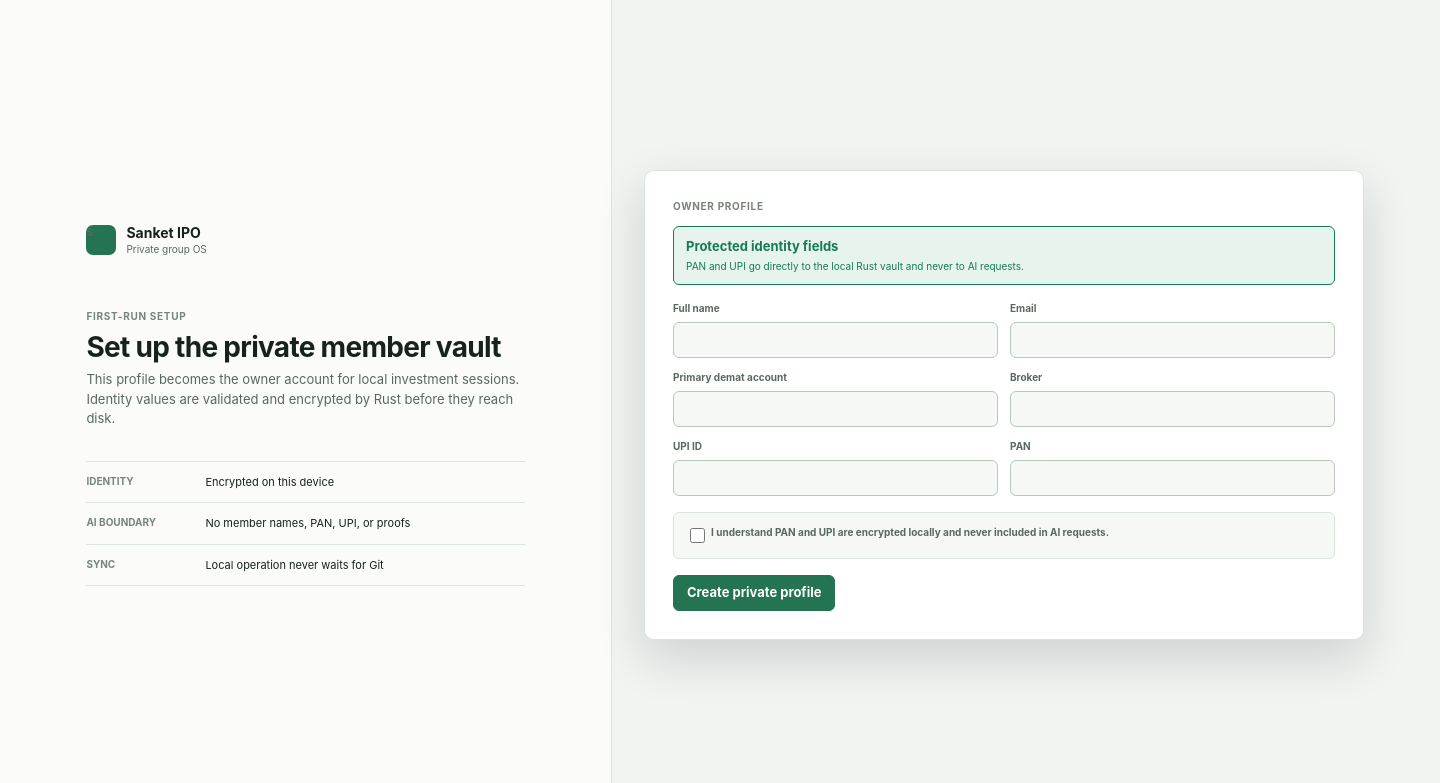
Test case: functional desktop flows › shows onboarding on an empty vault and sends identity only to the onboarding command
The image size is (1440, 783).
Expected: the heading "Set up the private member vault" is shown, x1=86 y1=331 x2=525 y2=364
Expected: the text "Protected identity fields" is shown, x1=686 y1=238 x2=838 y2=254
Type "Owner" into the field labelled "Full name" at (836, 340), box x1=673 y1=322 x2=998 y2=358
Type "owner@example.invalid" into the field labelled "Email" at (1172, 340), box x1=1010 y1=322 x2=1335 y2=358
Type "Primary" into the field labelled "Primary demat account" at (836, 409), box x1=673 y1=391 x2=998 y2=427
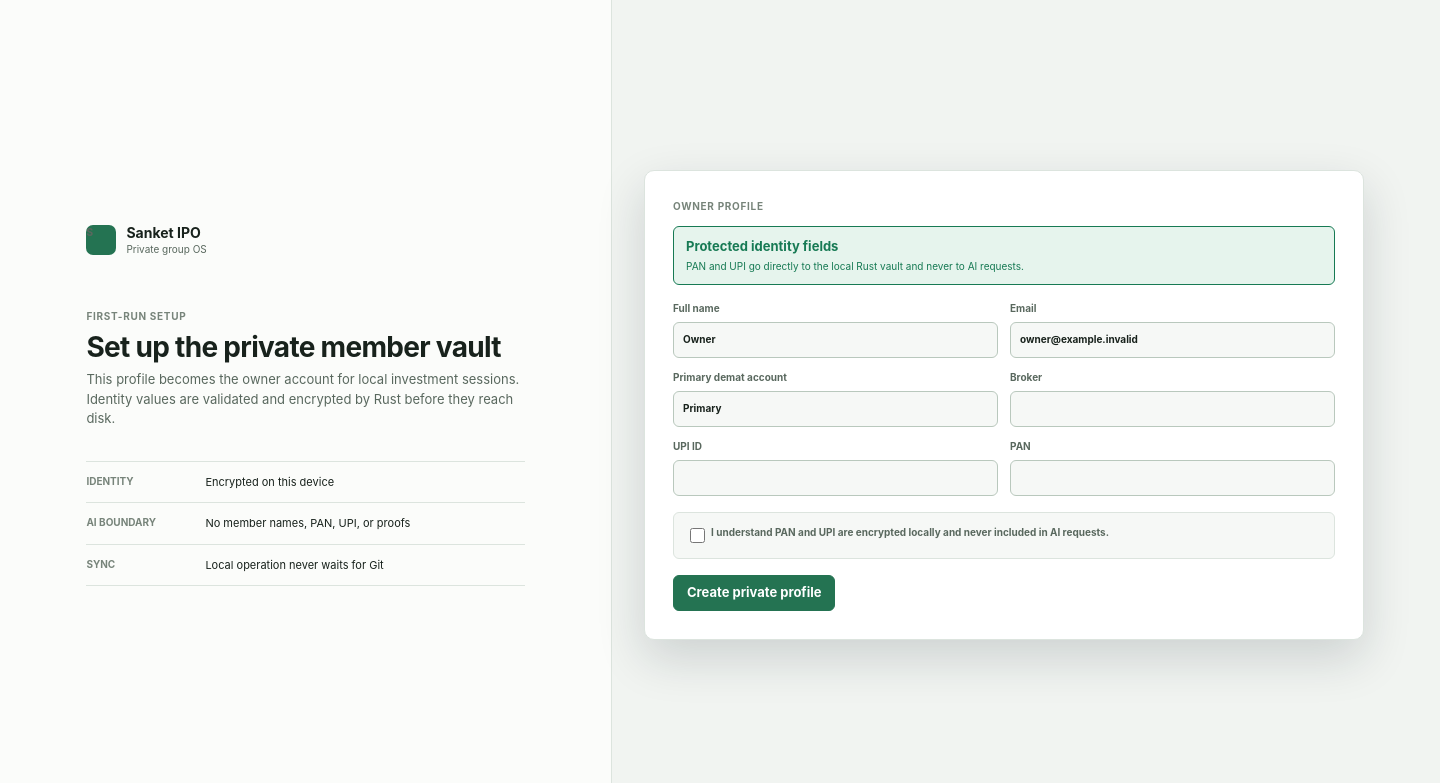
Type "Broker" into the field labelled "Broker" at (1172, 409), box x1=1010 y1=391 x2=1335 y2=427
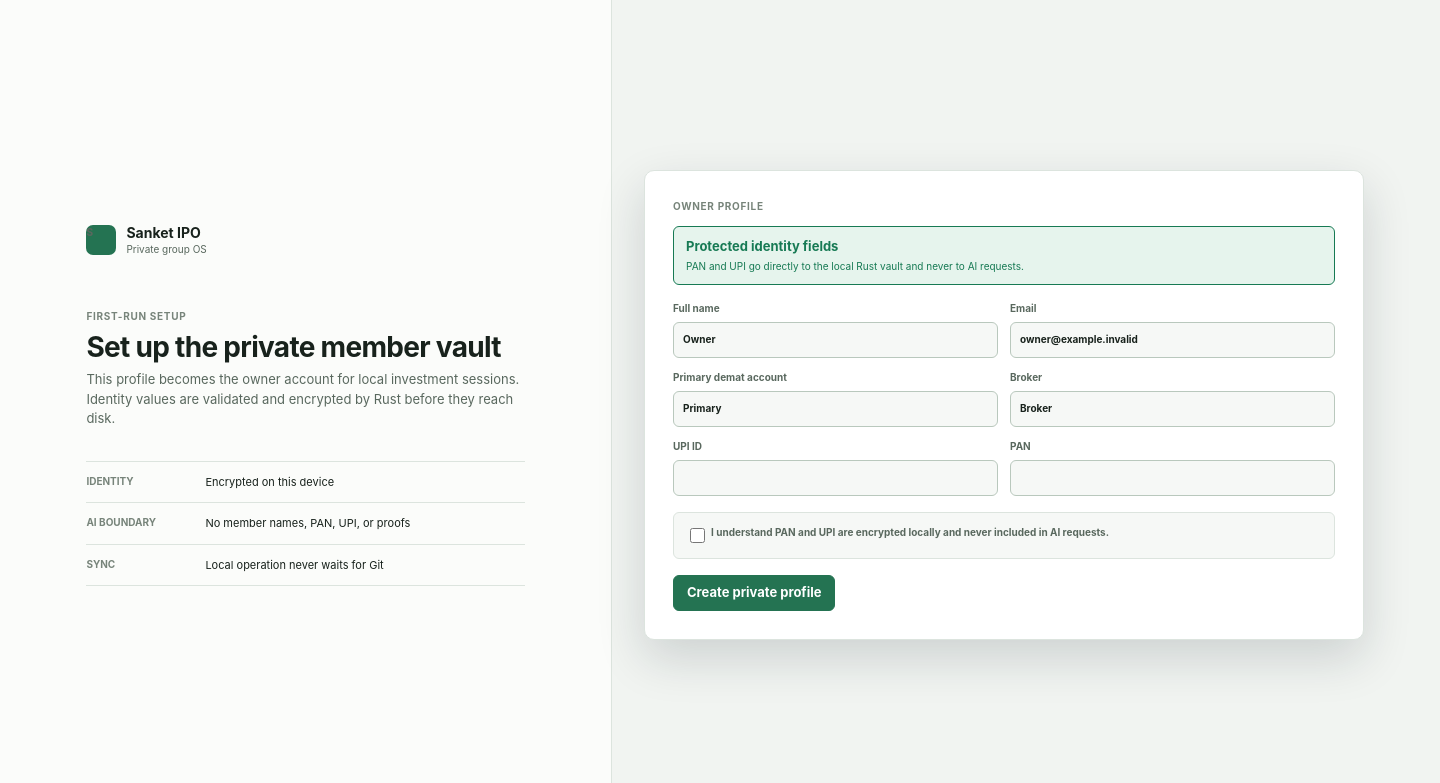
Type "owner@okbank" into the field labelled "UPI ID" at (836, 478), box x1=673 y1=460 x2=998 y2=496
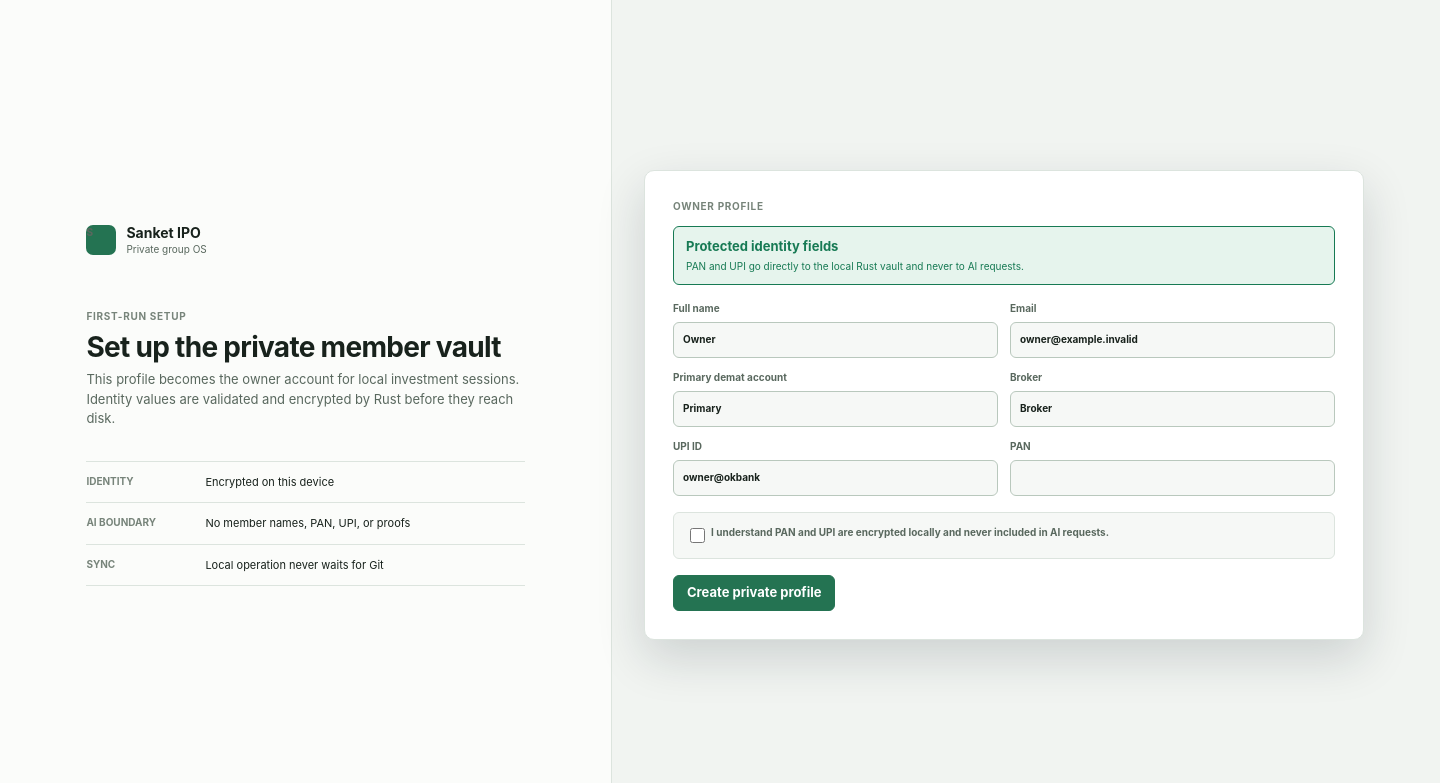
Type "ABCDE1234F" into the field labelled "PAN" at (1172, 478), box x1=1010 y1=460 x2=1335 y2=496
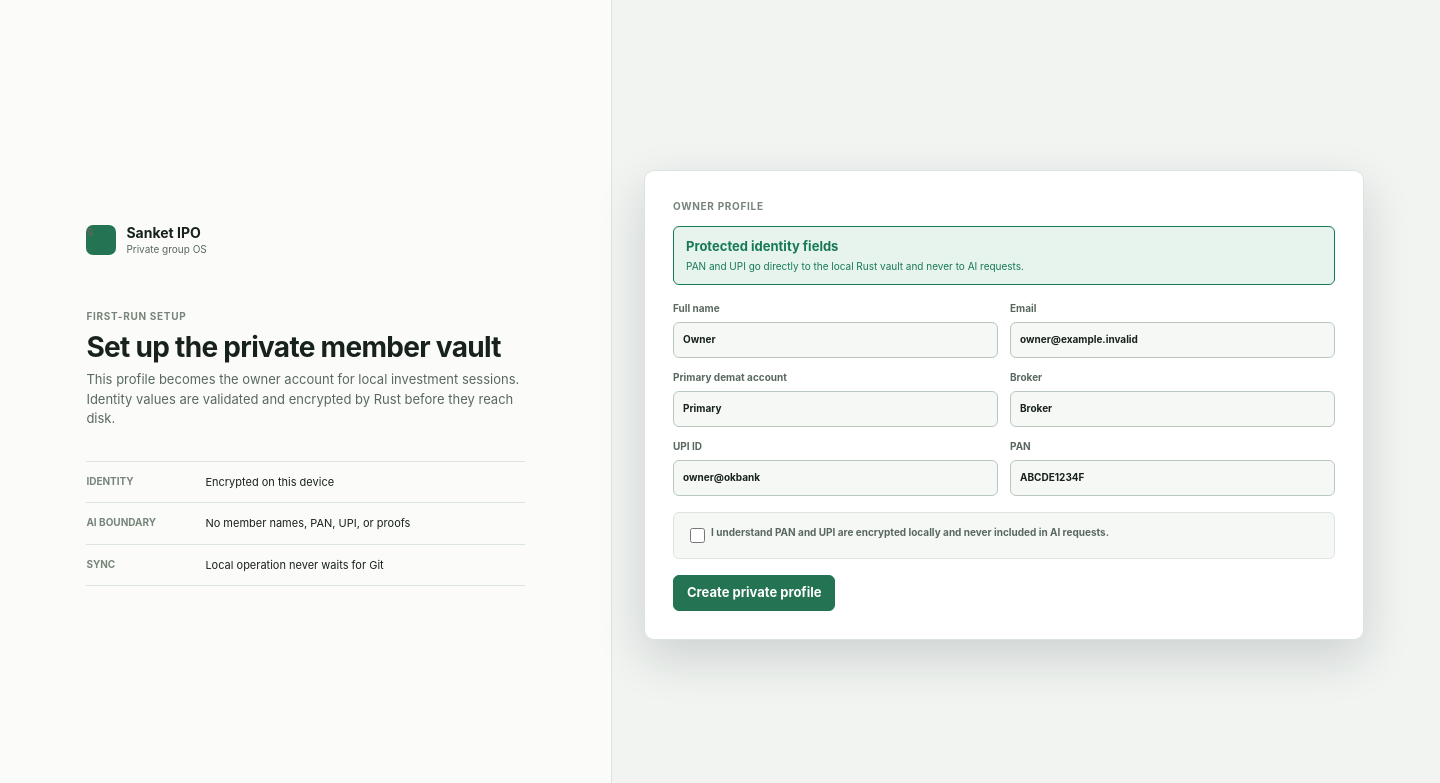
Click the checkbox labelled "I understand PAN and UPI" at (698, 535), box x1=690 y1=528 x2=705 y2=543
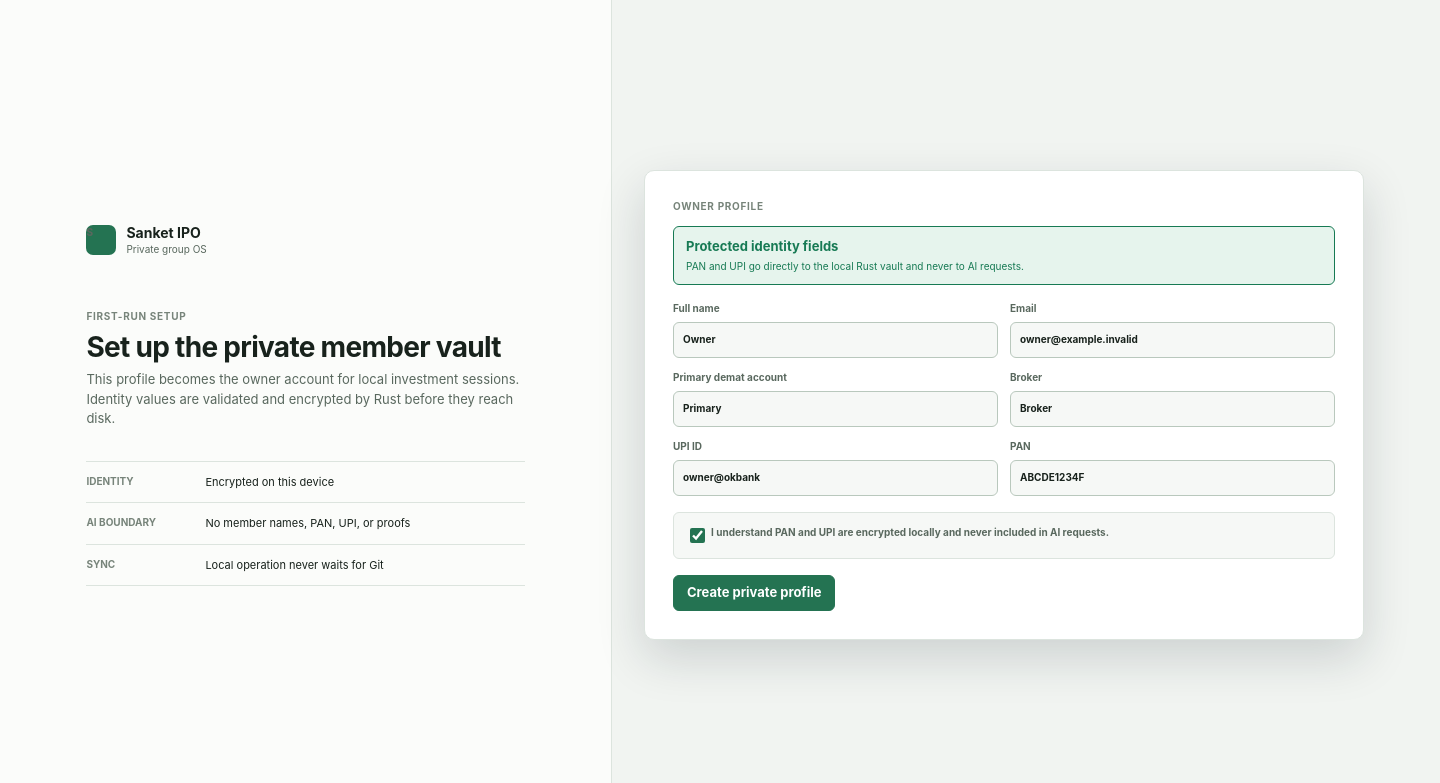
Click the button "Create private profile" at (754, 593), box x1=673 y1=575 x2=835 y2=611
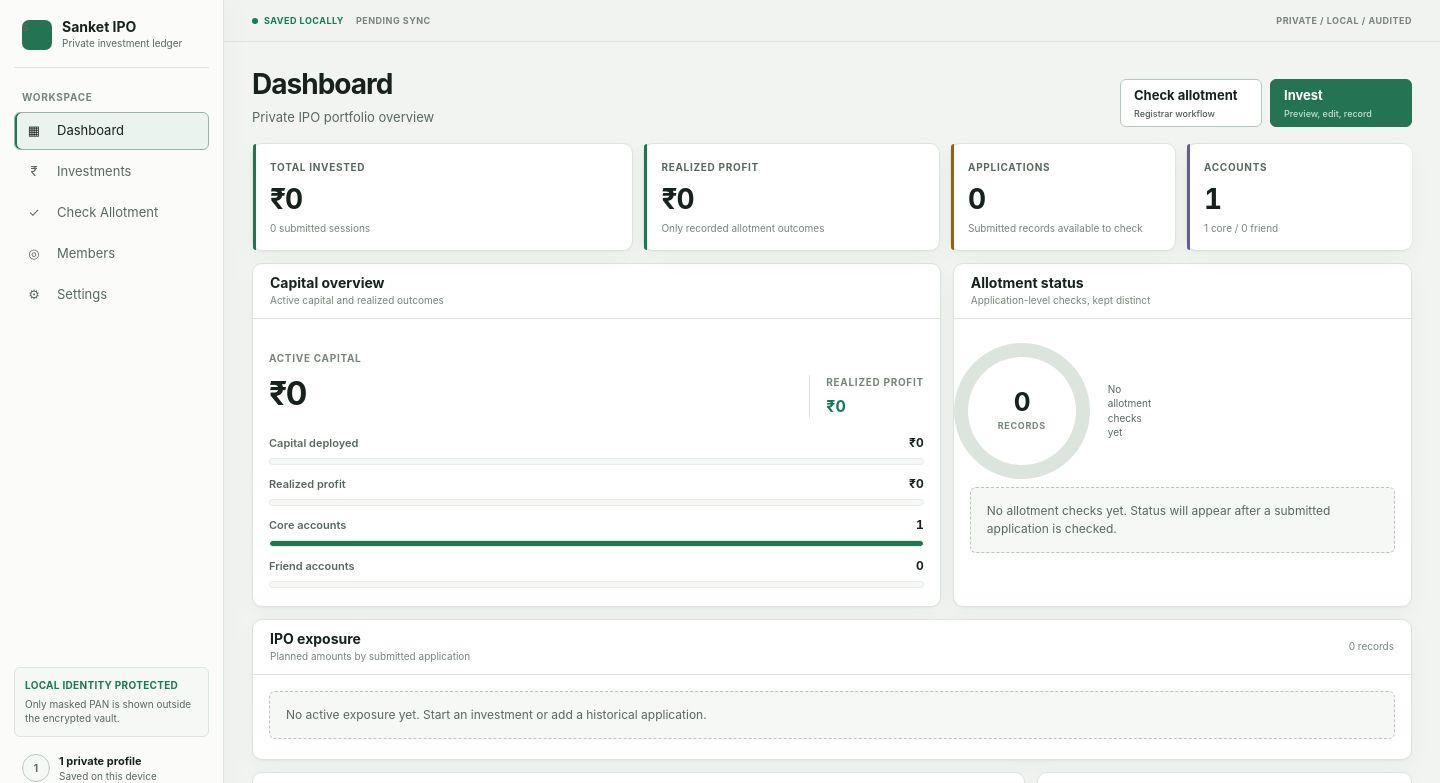
Expected: the text "ABCDE1234F" is not shown
Expected: the button "Invest Preview, edit, record" is shown, x1=1270 y1=79 x2=1412 y2=127
